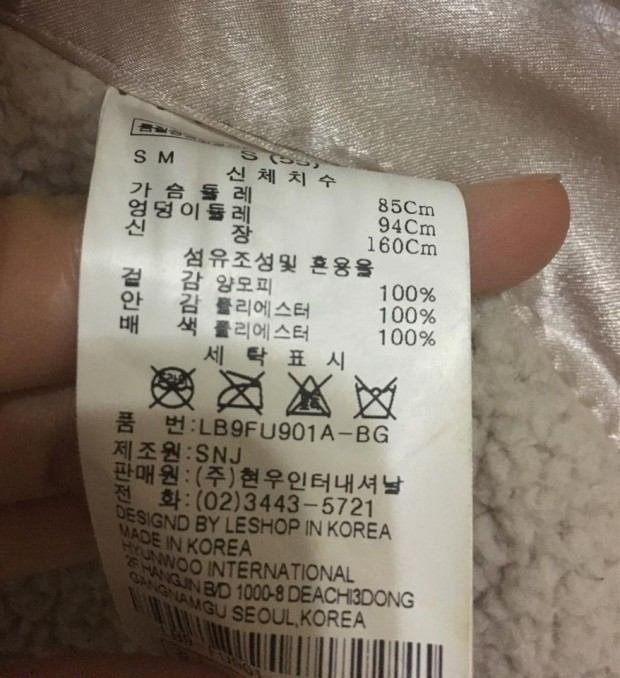KR_no_chlorine_bleach: (282, 371, 336, 421)
KR_no_dry_clean: (148, 364, 199, 411)
KR_no_iron: (214, 370, 267, 413)
KR_no_wash: (350, 374, 404, 423)
